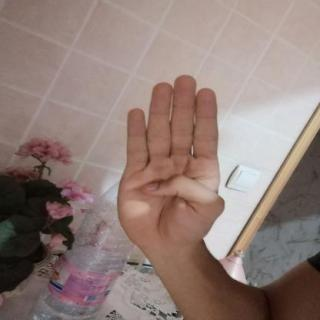KAAF: (105, 65, 239, 263)
